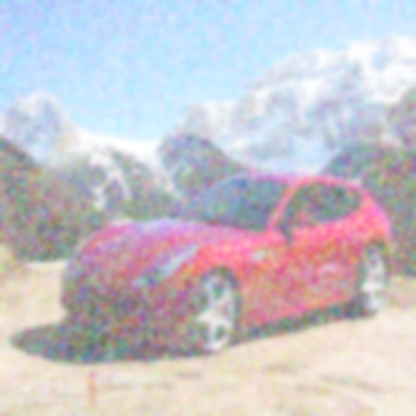Vehicle: (60, 170, 393, 355)
